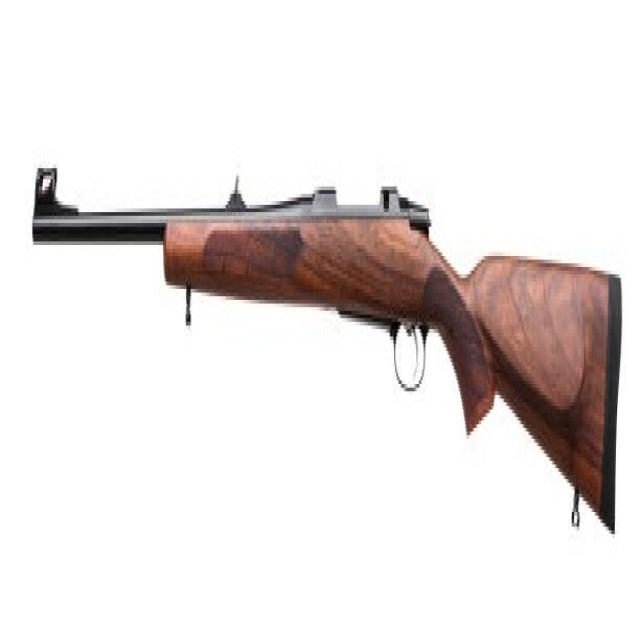rifle: (22, 141, 627, 558)
